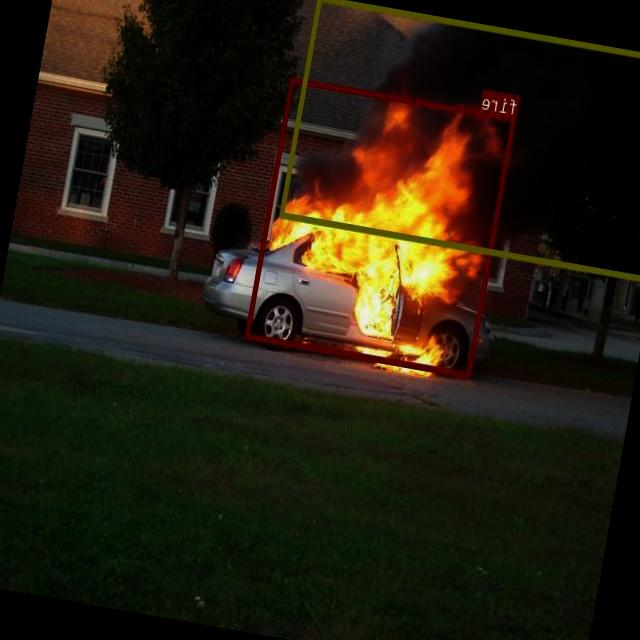fire: (245, 76, 517, 377)
smoke: (279, 0, 640, 282)
